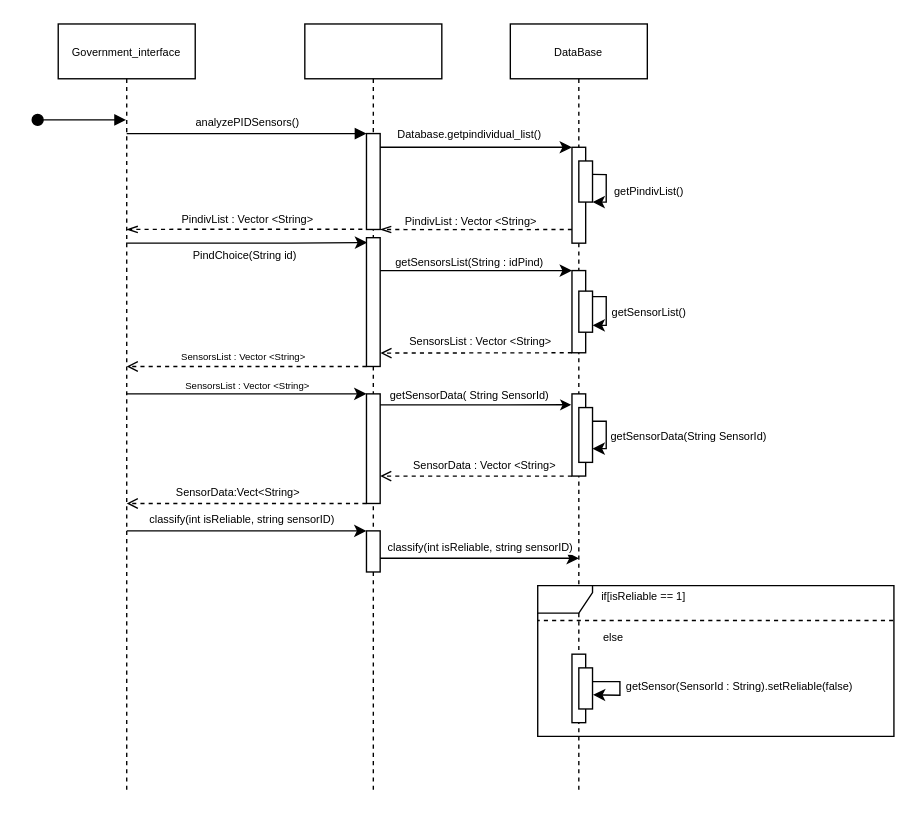
This 919x815 diagram has some shape labels left out. The box of each missing label's shape, as (x1, y1, x2, y2) in pixels:
alt: (536, 584, 894, 736)
System: (303, 23, 442, 791)
